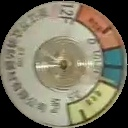green: (100, 48, 126, 90)
needle: (98, 76, 118, 86)
red: (77, 5, 124, 49)
yellow: (67, 82, 119, 128)
